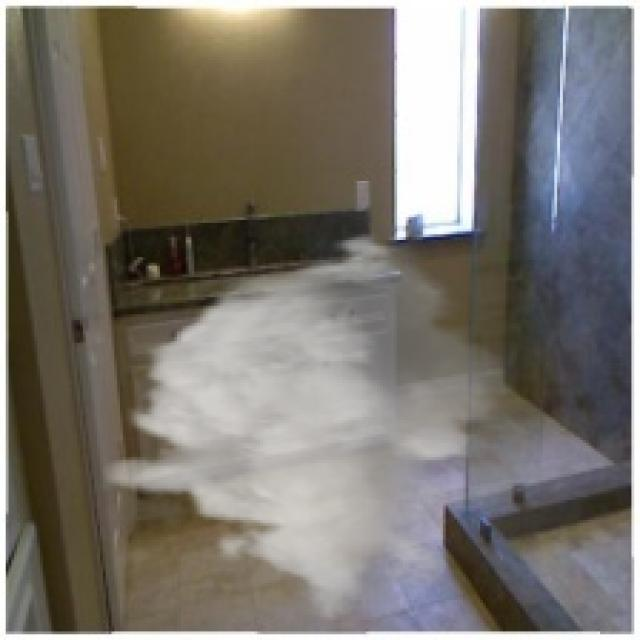smoke: (97, 231, 520, 623)
